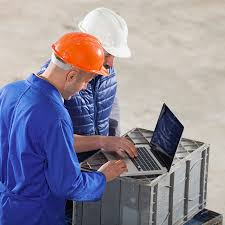Person_wearing_helmet: (41, 31, 114, 73)
